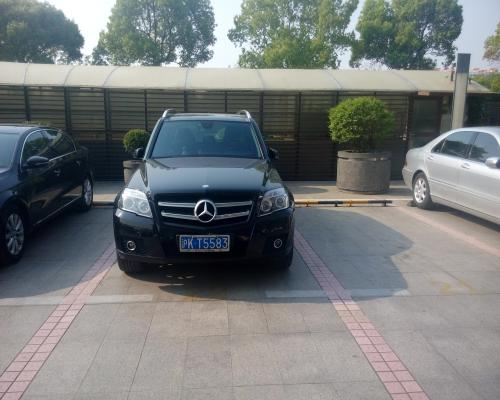Carplate: (176, 230, 231, 255)
